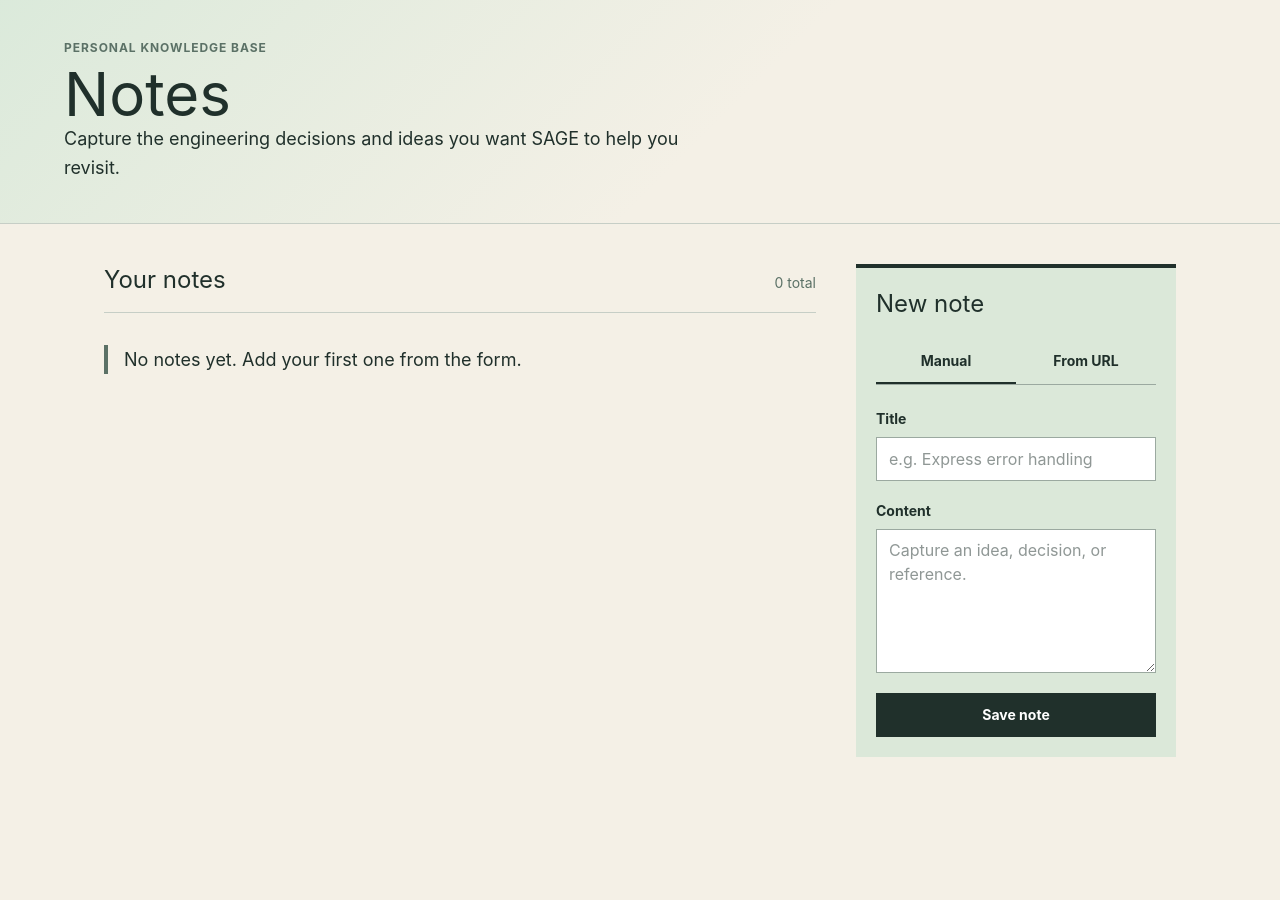
Test: NotesApp › shows restored generation status beneath the URL form
Click the tab "From URL" at (1086, 362), box [1016, 340, 1156, 384]
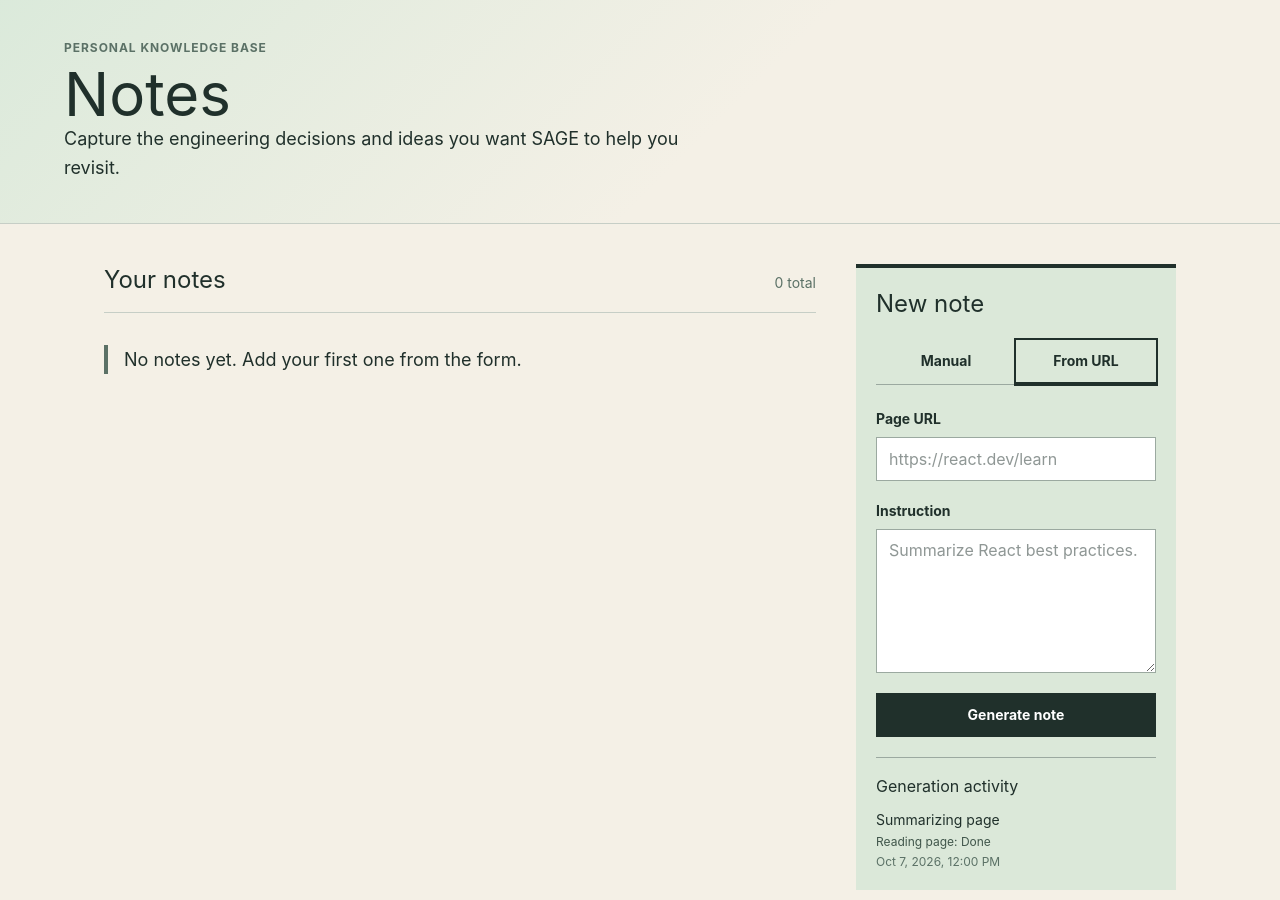
Now the heading "Generation activity" is shown, box [876, 776, 1018, 796]
Now the text "Summarizing page" is shown, box [876, 810, 1000, 828]
Now the list item "Reading page: Done" is shown, box [876, 834, 991, 848]
